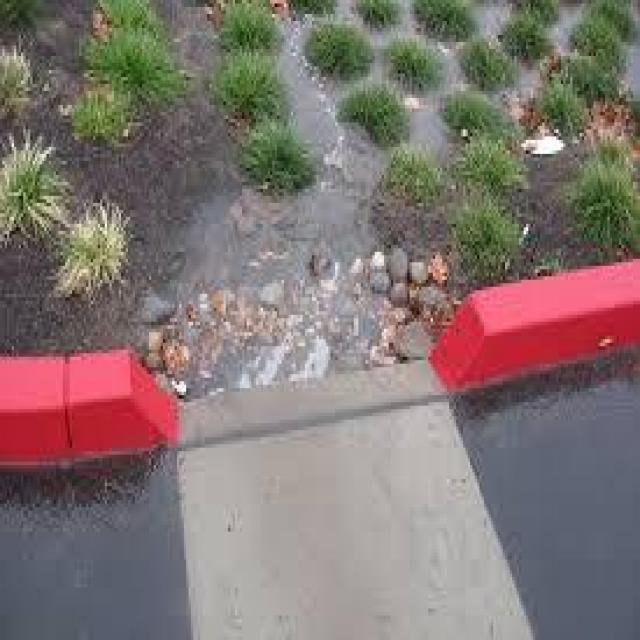curb: (448, 255, 635, 398), (1, 355, 176, 471)
